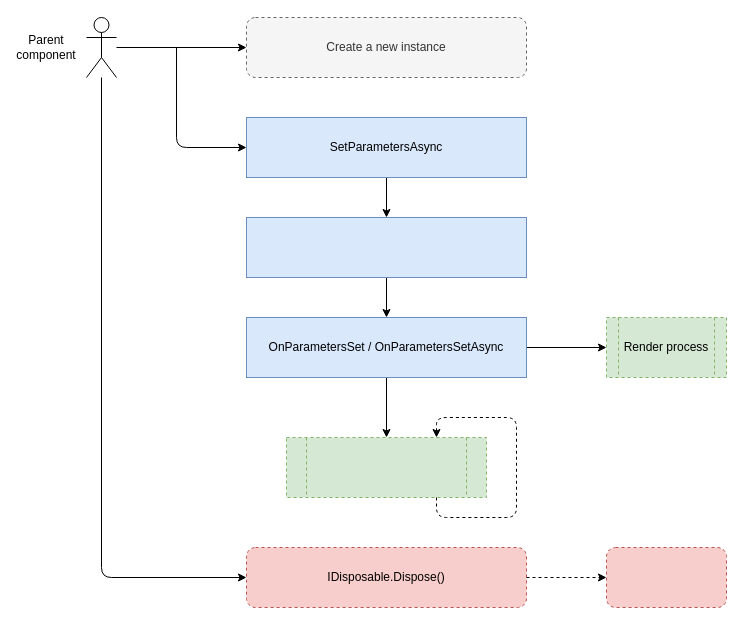
The diagram is 744 pixels wide and 625 high, and some of its shapes have lost their labels. The centre of each missing label's shape, as x and y in pixels:
"Dispose child components" goes at point 666,577.
"OnInitialized / OnInitializedAsync" goes at point 386,247.
"User interaction phase" goes at point 386,467.
